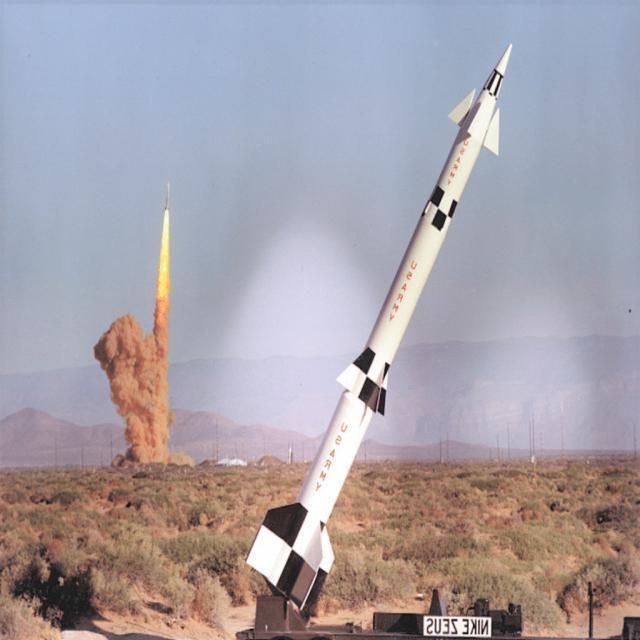Missile: (244, 40, 522, 604), (161, 181, 172, 215)
